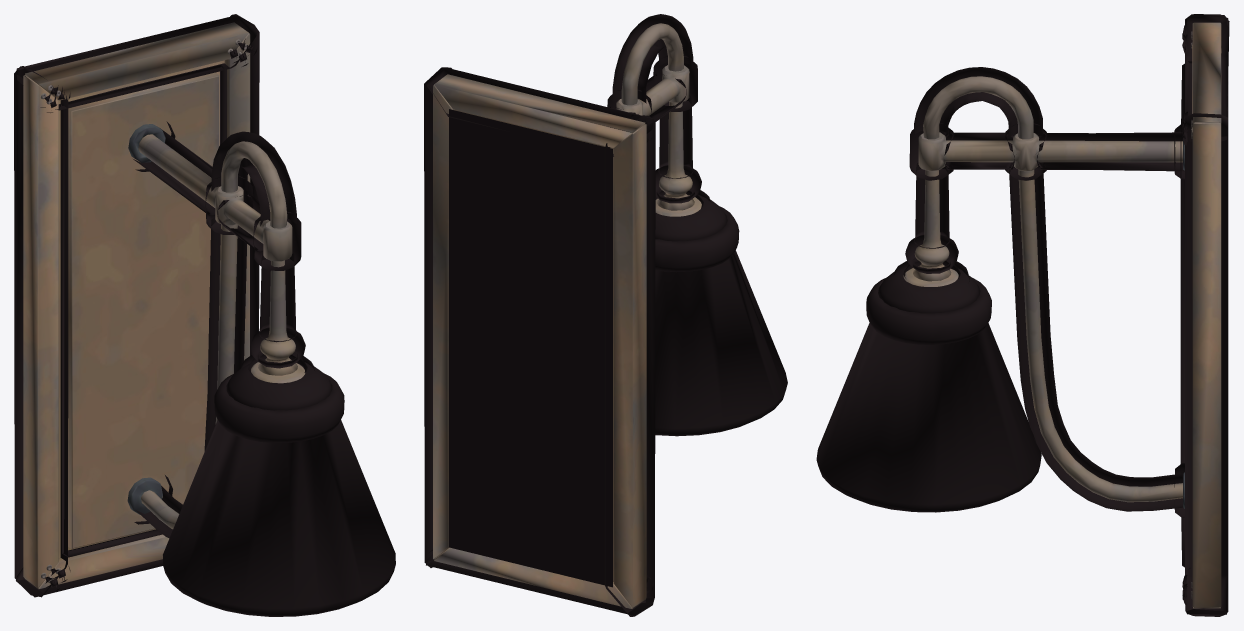
File: SM_Int_WallSconce.fbx
The picture shows the model from 3 angles, left to right: view 1: azimuth 30°, elevation 25°; view 2: azimuth 150°, elevation 25°; view 3: azimuth 270°, elevation 25°; orthographic projection. The views are drawn at different scales.
Visible parts, largest first — view 1: SM_Int_WallSconce; view 2: SM_Int_WallSconce; view 3: SM_Int_WallSconce.
Boxes of the visible parts, bbox=[...] form: SM_Int_WallSconce: bbox=[14, 14, 395, 616]; SM_Int_WallSconce: bbox=[424, 14, 787, 616]; SM_Int_WallSconce: bbox=[816, 14, 1229, 616].
Bounding box in the file's own units: 0.1602 × 0.3524 × 0.2626.
